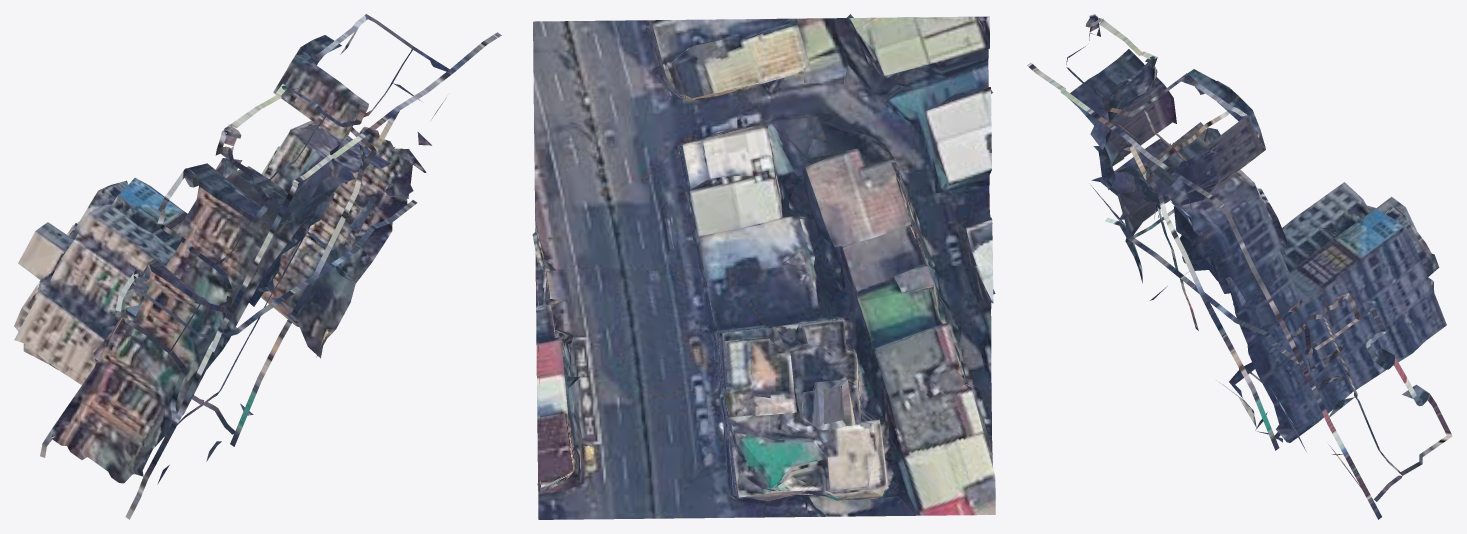
The picture shows the model from 3 angles, left to right: view 1: azimuth 30°, elevation 25°; view 2: azimuth 150°, elevation 25°; view 3: azimuth 270°, elevation 25°; orthographic projection. The views are drawn at different scales.
Bounding box in the file's own units: 85.42 × 76.56 × 76.11.
1 material, 1 textured.
